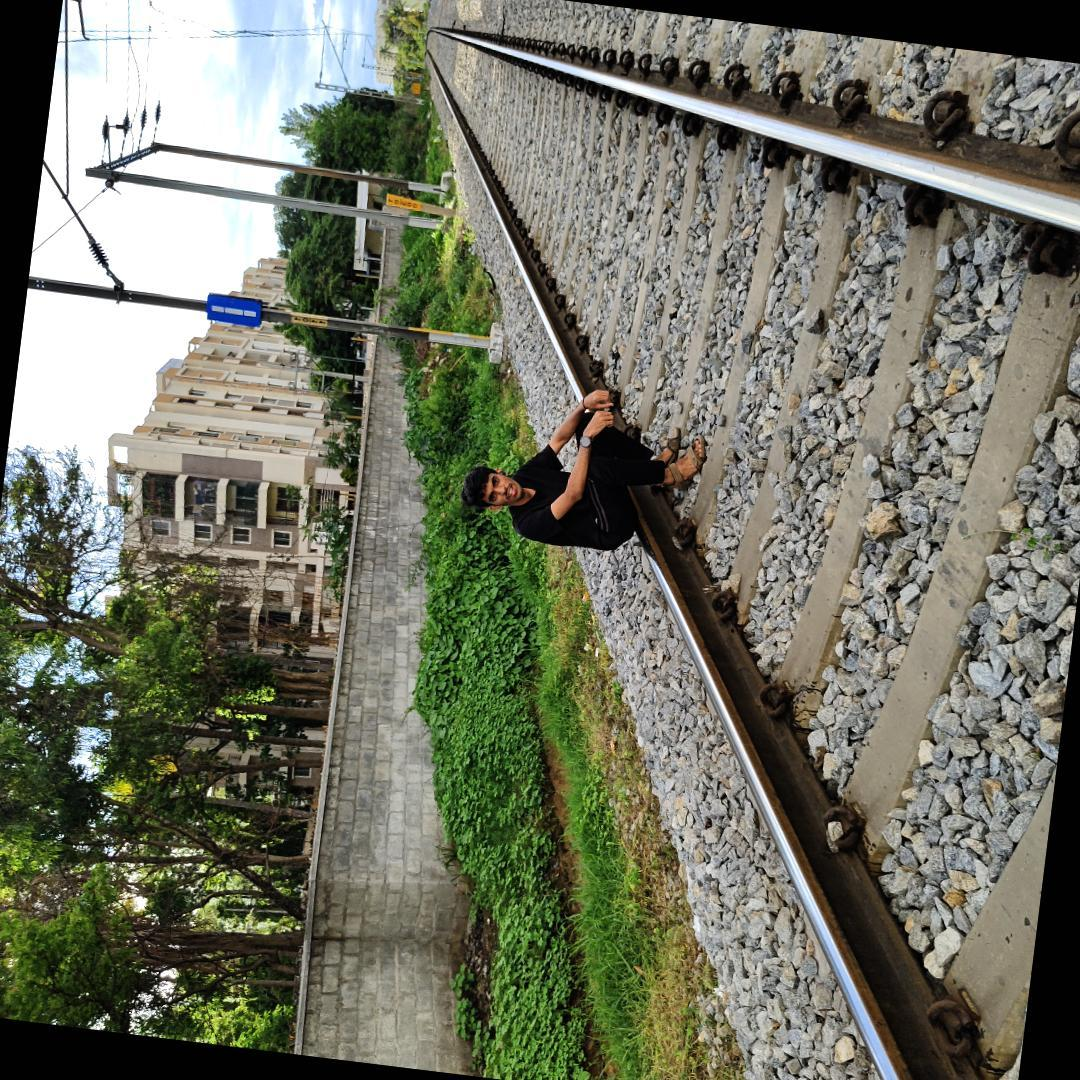sitting: (445, 374, 709, 567)
